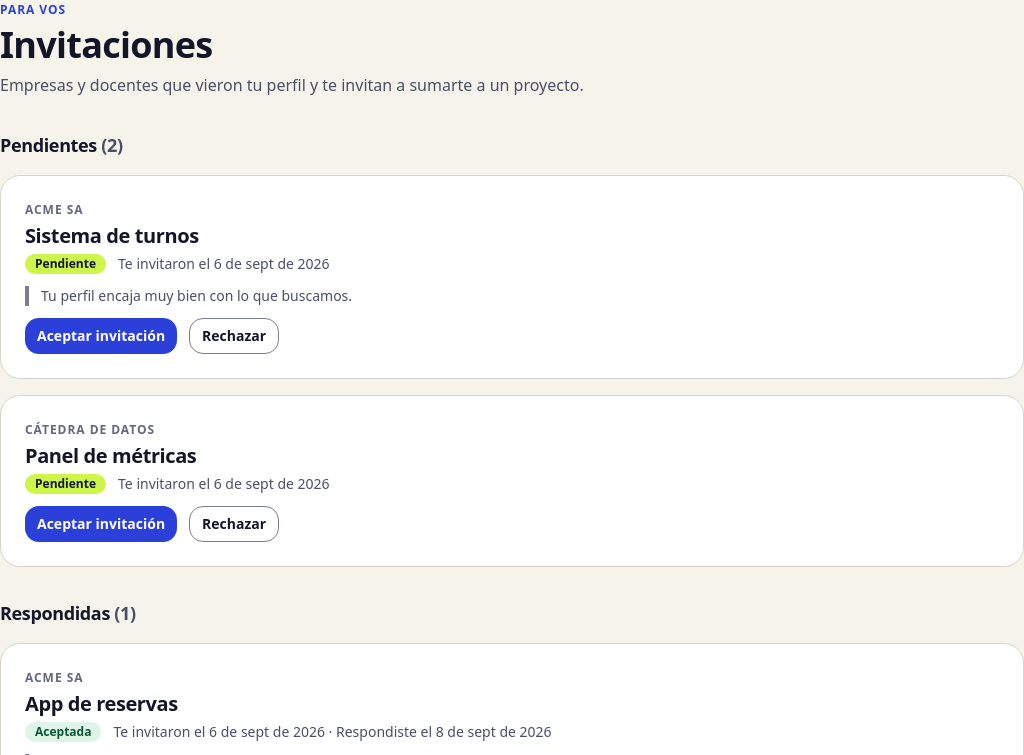
InvitacionesPage › aceptar › explica que se crea la postulación y, si se cancela, no cambia nada
Expected: the link "Sistema de turnos" is shown, [25,222,199,249]
Click the button "Aceptar invitación" below "Sistema de turnos".
click(101, 336)  # box [25,318,177,354]
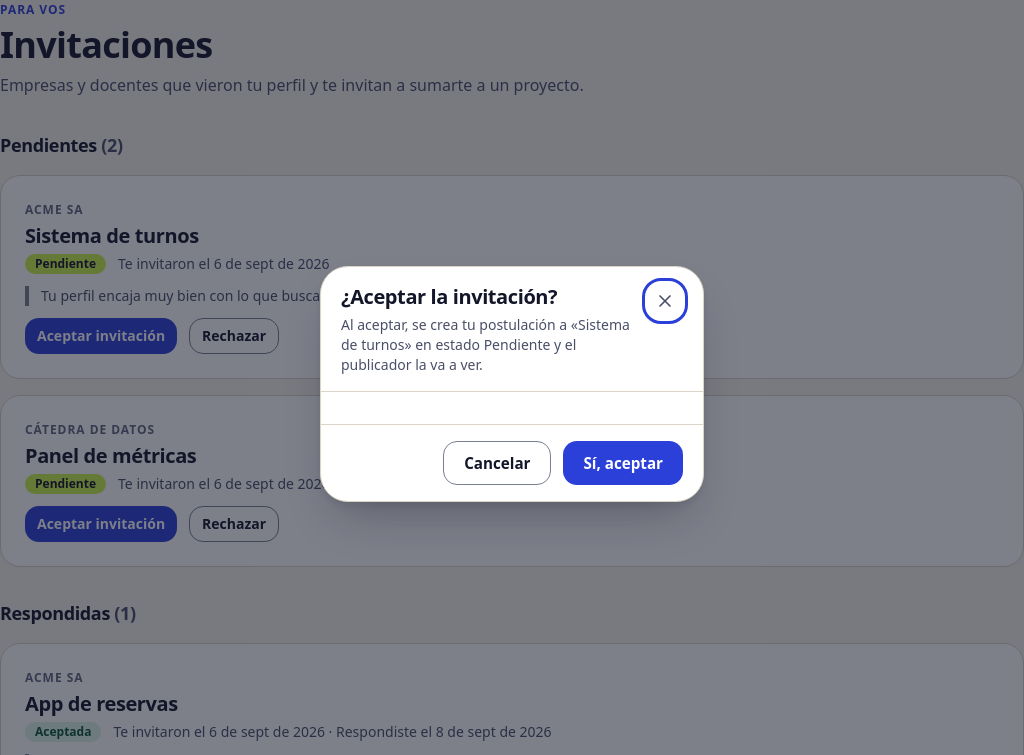
Now the dialog "¿Aceptar la invitación?" shows "se crea tu postulación a «Sistema de turnos» en estado Pendiente", box [341,315,630,374]
Click the button "Cancelar".
click(497, 463)  # box [443,441,552,485]
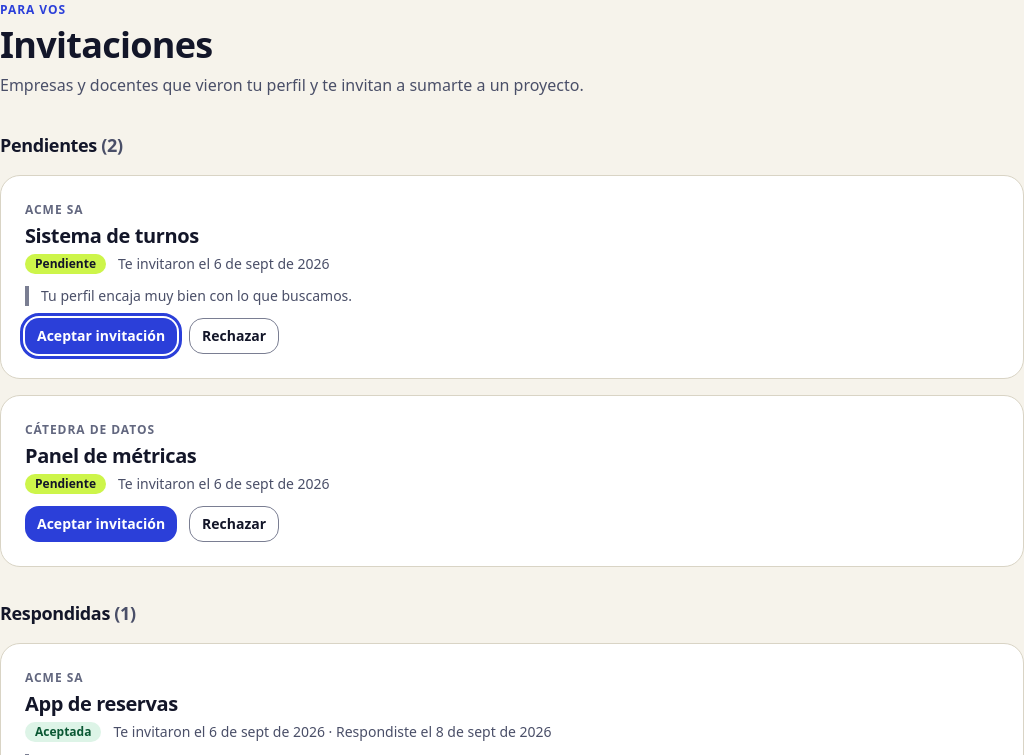
Now the dialog is gone
